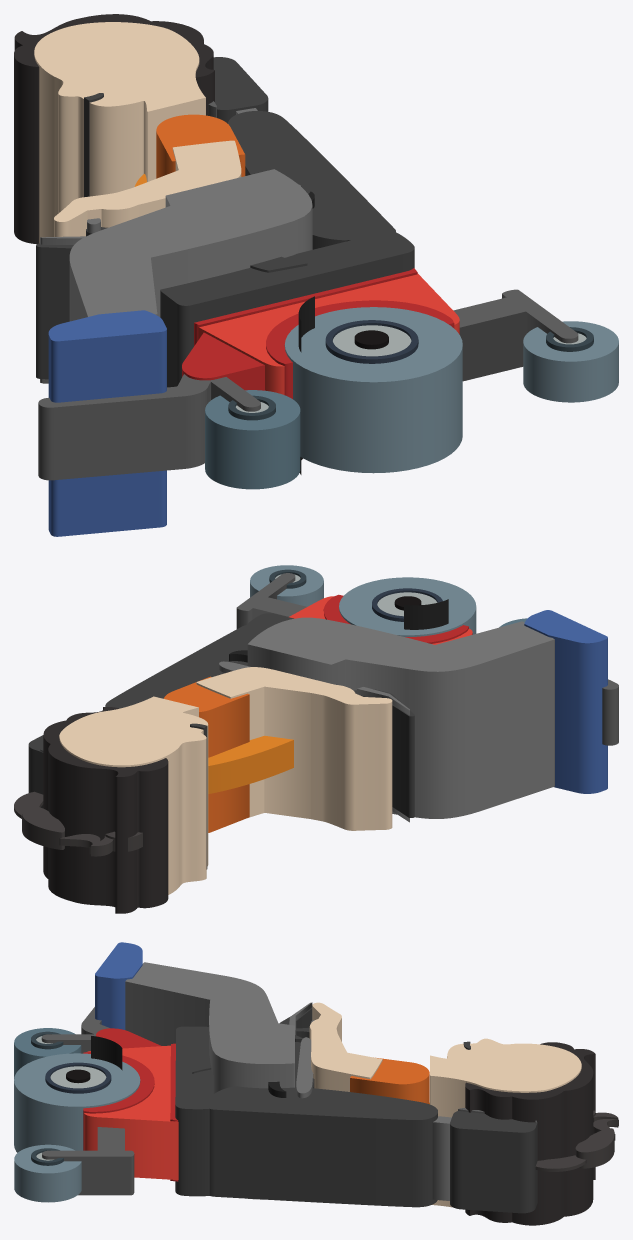
File: emoji_u1f9d1_1f3fb_200d_1f9bc.glb
The picture shows the model from 3 angles, top to bottom: view 1: azimuth 30°, elevation 25°; view 2: azimuth 150°, elevation 25°; view 3: azimuth 270°, elevation 25°; orthographic projection. The views are drawn at different scales.
Parts seen in each view (by area): view 1: emoji_u1f9d1_1f3fb_200d_1f9bc; view 2: emoji_u1f9d1_1f3fb_200d_1f9bc; view 3: emoji_u1f9d1_1f3fb_200d_1f9bc.
Part boxes in pixels (x1=…): emoji_u1f9d1_1f3fb_200d_1f9bc: x1=14, y1=14, x2=618, y2=536; emoji_u1f9d1_1f3fb_200d_1f9bc: x1=14, y1=565, x2=618, y2=913; emoji_u1f9d1_1f3fb_200d_1f9bc: x1=14, y1=942, x2=618, y2=1225.
Size of the model in its own units: 0.024 by 0.0086 by 0.034.
